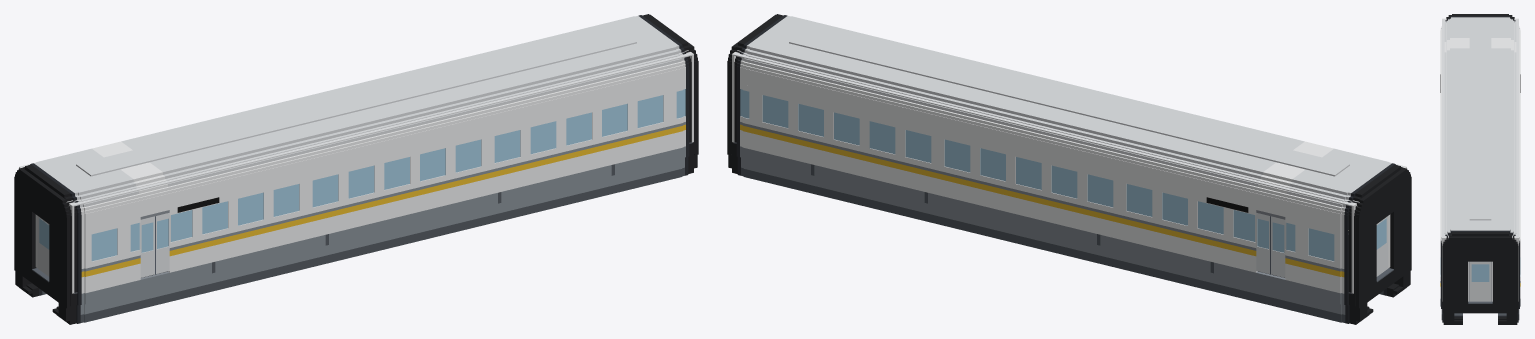
File: tr09_car.obj
3 views of the same model, side by side, from view 1: azimuth 30°, elevation 25°; view 2: azimuth 150°, elevation 25°; view 3: azimuth 270°, elevation 25° (orthographic). The views are drawn at different scales.
Parts seen in each view (by area): view 1: SHELL, SHELL_roof, SHELL_diaphragm, SHELL_ceiling, EXTERNAL_DOOR_4_CG_DR1_TOGGLE_TL_-0.54_X, EXTERNAL_DOOR_5_CG_DR1_TOGGLE_TL_0.54_X, SHELL_end, CONNECTING_DOOR_1_CG_CR_TOGGLE_TL_0.98_Z; view 2: SHELL, SHELL_roof, SHELL_diaphragm, SHELL_ceiling, EXTERNAL_DOOR_7_CG_DL1_TOGGLE_TL_-0.54_X, EXTERNAL_DOOR_8_CG_DL1_TOGGLE_TL_0.54_X, SHELL_end, CONNECTING_DOOR_1_CG_CR_TOGGLE_TL_0.98_Z; view 3: SHELL, SHELL_diaphragm, SHELL_roof, SHELL_ceiling, CONNECTING_DOOR_2_CG_CF_TOGGLE_TL_0.98_Z, SHELL_end, SHELL_floor, SHELL_gangway.
Part boxes in pixels (box(x1,y1,x2,y2)): SHELL: box(19, 14, 694, 324); SHELL_roof: box(76, 31, 636, 176); SHELL_diaphragm: box(14, 14, 698, 321); SHELL_ceiling: box(21, 50, 691, 206); EXTERNAL_DOOR_4_CG_DR1_TOGGLE_TL_-0.54_X: box(139, 216, 155, 277); EXTERNAL_DOOR_5_CG_DR1_TOGGLE_TL_0.54_X: box(155, 213, 170, 273); SHELL_end: box(19, 50, 693, 293); CONNECTING_DOOR_1_CG_CR_TOGGLE_TL_0.98_Z: box(37, 216, 49, 276); SHELL: box(731, 14, 1406, 324); SHELL_roof: box(789, 31, 1349, 176); SHELL_diaphragm: box(727, 14, 1411, 321); SHELL_ceiling: box(733, 50, 1404, 206); EXTERNAL_DOOR_7_CG_DL1_TOGGLE_TL_-0.54_X: box(1270, 216, 1286, 277); EXTERNAL_DOOR_8_CG_DL1_TOGGLE_TL_0.54_X: box(1255, 213, 1270, 273); SHELL_end: box(732, 50, 1406, 293); CONNECTING_DOOR_1_CG_CR_TOGGLE_TL_0.98_Z: box(1376, 216, 1388, 276); SHELL: box(1440, 14, 1520, 324); SHELL_diaphragm: box(1442, 15, 1518, 323); SHELL_roof: box(1469, 26, 1491, 220); SHELL_ceiling: box(1442, 19, 1518, 237); CONNECTING_DOOR_2_CG_CF_TOGGLE_TL_0.98_Z: box(1469, 261, 1491, 301); SHELL_end: box(1442, 18, 1518, 301); SHELL_floor: box(1469, 262, 1491, 300); SHELL_gangway: box(1468, 301, 1492, 303).
Size of the model in its own units: 24.32 by 4.67 by 3.72.
Materials: 1 (1 with a texture image).
